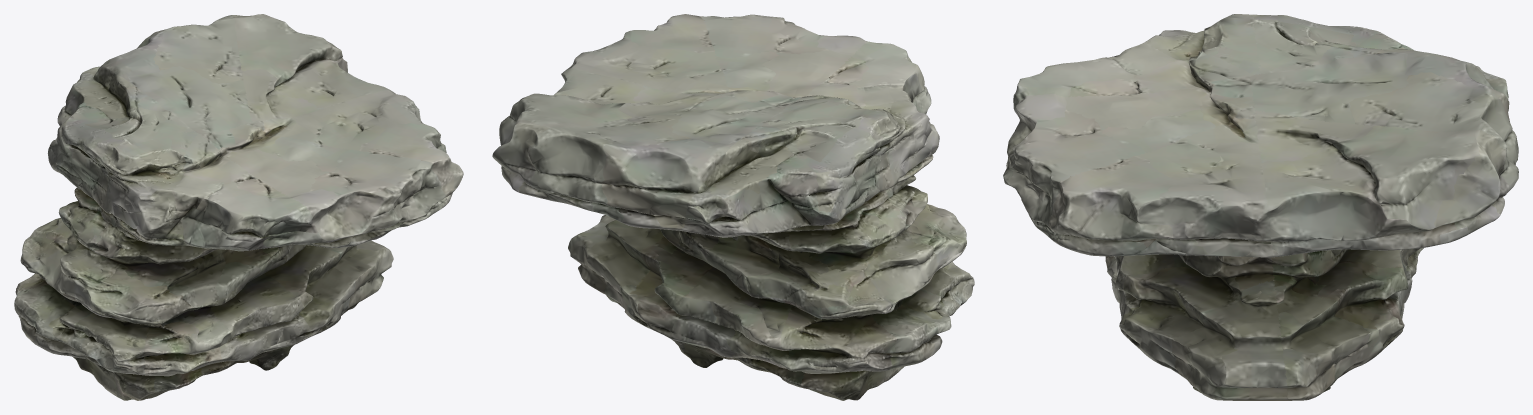
File: JiaShanShi_17.glb
The picture shows the model from 3 angles, left to right: view 1: azimuth 30°, elevation 25°; view 2: azimuth 150°, elevation 25°; view 3: azimuth 270°, elevation 25°; orthographic projection. The views are drawn at different scales.
Visible parts, largest first — view 1: tripo_node_891e912d-f122-44ce-85a3-74fc2fc58f2c; view 2: tripo_node_891e912d-f122-44ce-85a3-74fc2fc58f2c; view 3: tripo_node_891e912d-f122-44ce-85a3-74fc2fc58f2c.
Boxes of the visible parts, box(x1,y1,x2,y2) form: tripo_node_891e912d-f122-44ce-85a3-74fc2fc58f2c: box(14, 14, 463, 400); tripo_node_891e912d-f122-44ce-85a3-74fc2fc58f2c: box(492, 14, 974, 400); tripo_node_891e912d-f122-44ce-85a3-74fc2fc58f2c: box(1003, 14, 1518, 400).
Size of the model in its own units: 0.9782 by 0.6527 by 0.9797.
Materials: 1 (1 with a texture image).
